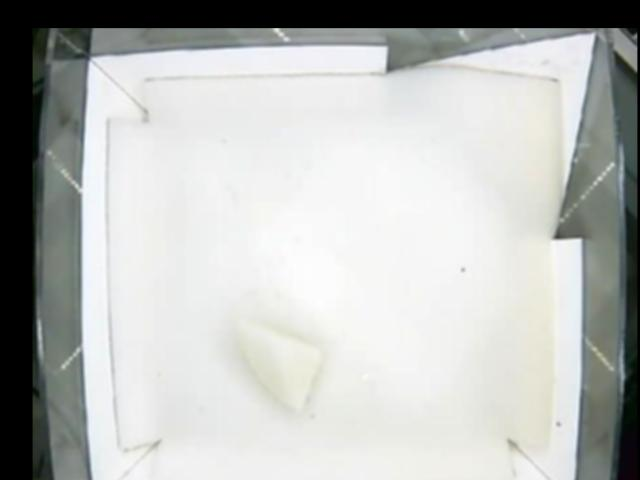Mooli: (232, 316, 325, 409)
